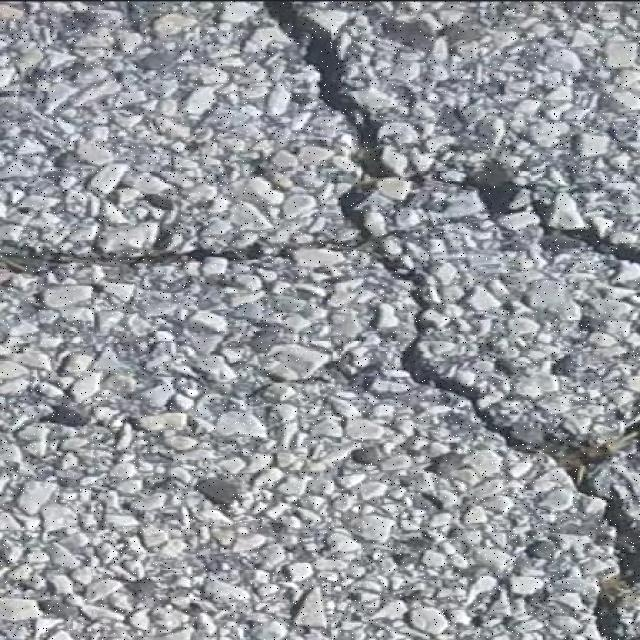Crack: (266, 2, 640, 640), (0, 238, 353, 272)
